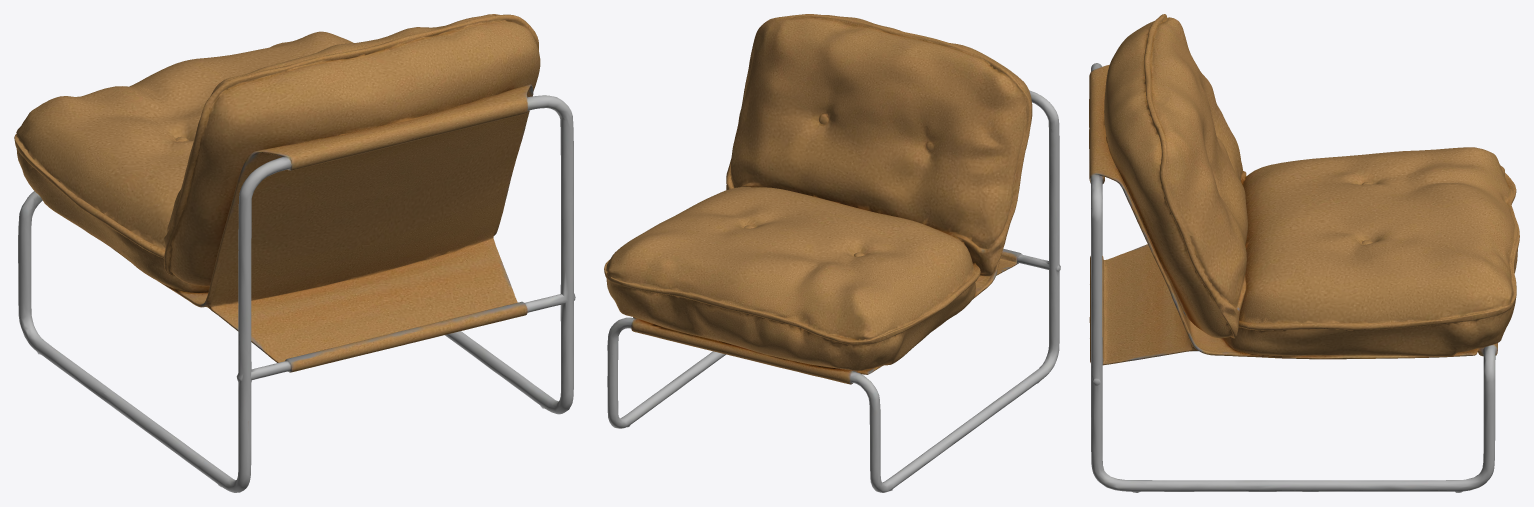
Rendered from armchair.hd.glb.
3 views of the same model, side by side, from view 1: azimuth 30°, elevation 25°; view 2: azimuth 150°, elevation 25°; view 3: azimuth 270°, elevation 25° (orthographic). The views are drawn at different scales.
Parts seen in each view (by area): view 1: tripo_node_f454b1dc-a547-447d-a398-20fbfa8032ba; view 2: tripo_node_f454b1dc-a547-447d-a398-20fbfa8032ba; view 3: tripo_node_f454b1dc-a547-447d-a398-20fbfa8032ba.
Boxes of the visible parts, x1,y1,x2,y2 form: tripo_node_f454b1dc-a547-447d-a398-20fbfa8032ba: (14, 14, 575, 492); tripo_node_f454b1dc-a547-447d-a398-20fbfa8032ba: (604, 14, 1060, 492); tripo_node_f454b1dc-a547-447d-a398-20fbfa8032ba: (1089, 14, 1519, 492).
Size of the model in its own units: 0.7231 by 0.77 by 0.847.
1 material, 1 textured.
